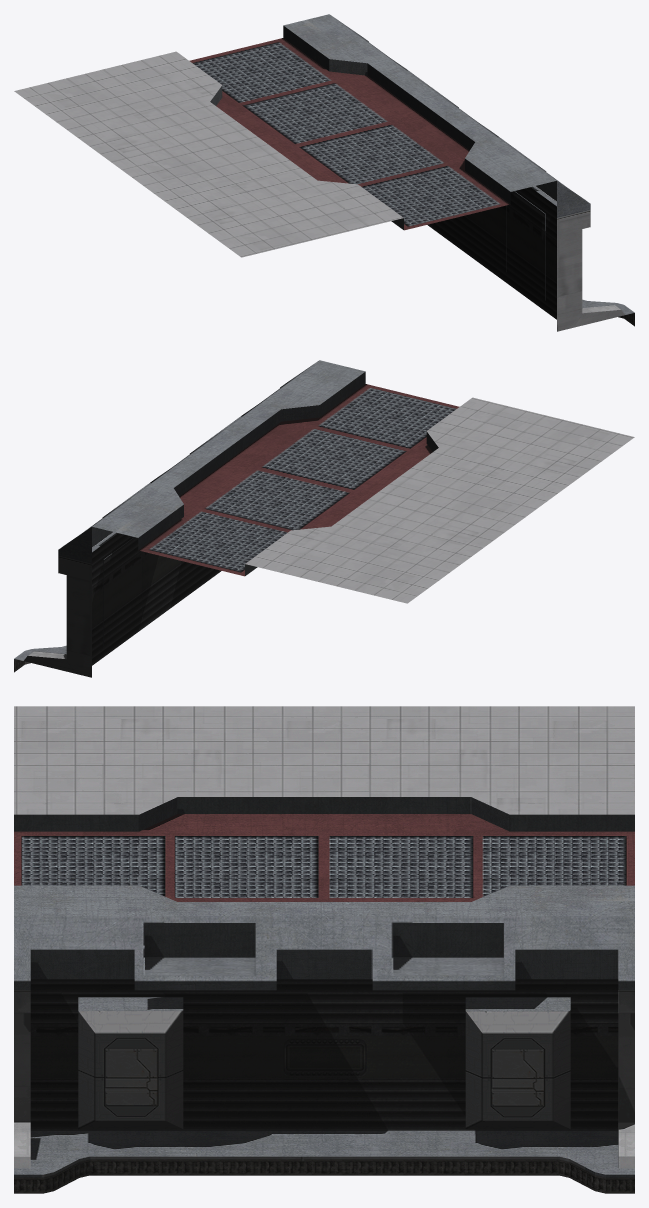
Rendered from ML1_Basic_L.FBX.
The picture shows the model from 3 angles, top to bottom: view 1: azimuth 30°, elevation 25°; view 2: azimuth 150°, elevation 25°; view 3: azimuth 270°, elevation 25°; orthographic projection. The views are drawn at different scales.
Visible parts, largest first — view 1: ML1_Basic_L; view 2: ML1_Basic_L; view 3: ML1_Basic_L.
Part boxes in pixels (x1=…): ML1_Basic_L: x1=14, y1=14, x2=634, y2=331; ML1_Basic_L: x1=14, y1=360, x2=634, y2=677; ML1_Basic_L: x1=14, y1=706, x2=634, y2=1193.
Bounding box in the file's own units: 9.98 × 4 × 10.
Materials: 1 (1 with a texture image).
